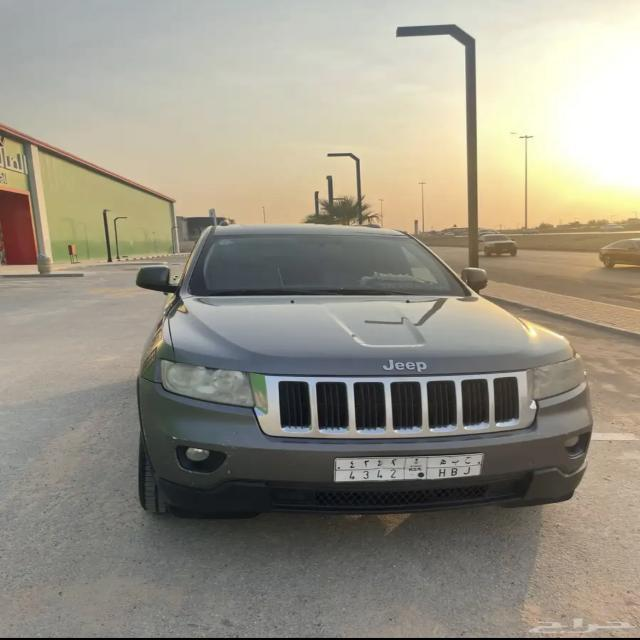license_plate: (332, 453, 484, 483)
